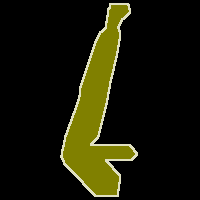tie: (61, 4, 137, 196)
